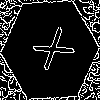X: (25, 25, 75, 78)
